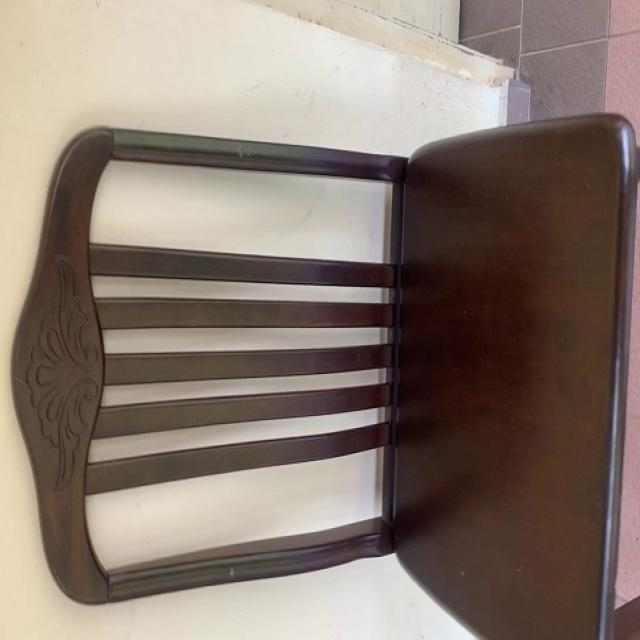chair: (12, 117, 635, 640)
